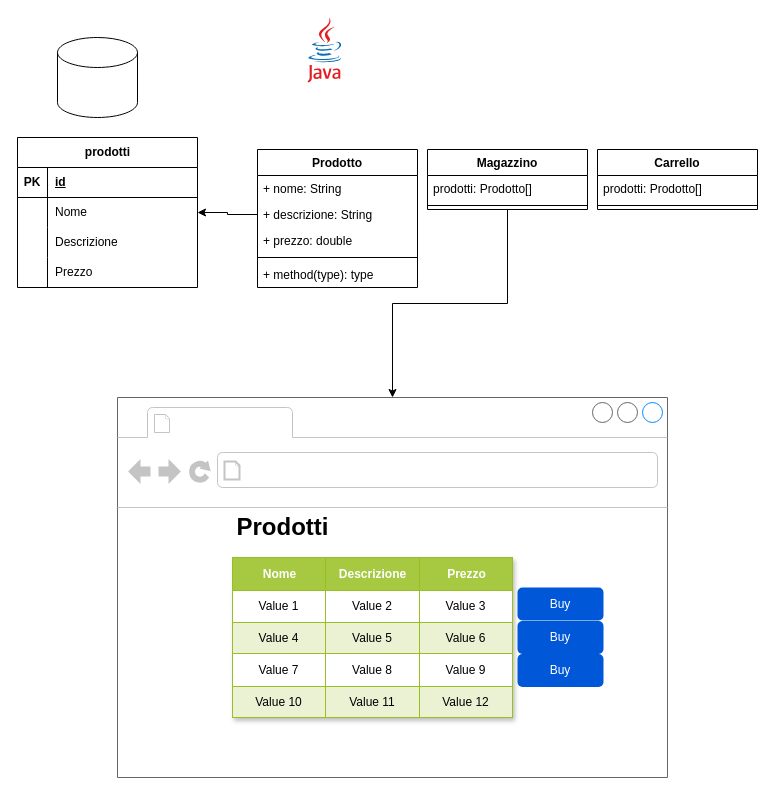
The diagram is 775 pixels wide and 795 high, and some of its shapes have lost their labels. The centre of each missing label's shape, as x and y in pixels:
"db" belongs at point 97,77.
"https://www.draw.io" belongs at point 372,470.
"Page 1" belongs at point 232,422.
